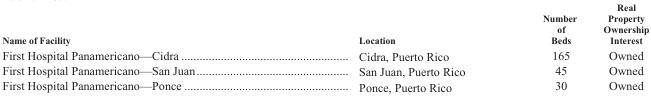table: (1, 1, 648, 93)
table column: (1, 1, 276, 93), (276, 1, 503, 93), (503, 1, 589, 93), (589, 1, 648, 93)
table column header: (1, 1, 648, 46)
table row: (1, 1, 648, 46), (1, 46, 648, 63), (1, 63, 648, 78), (1, 78, 648, 93)
